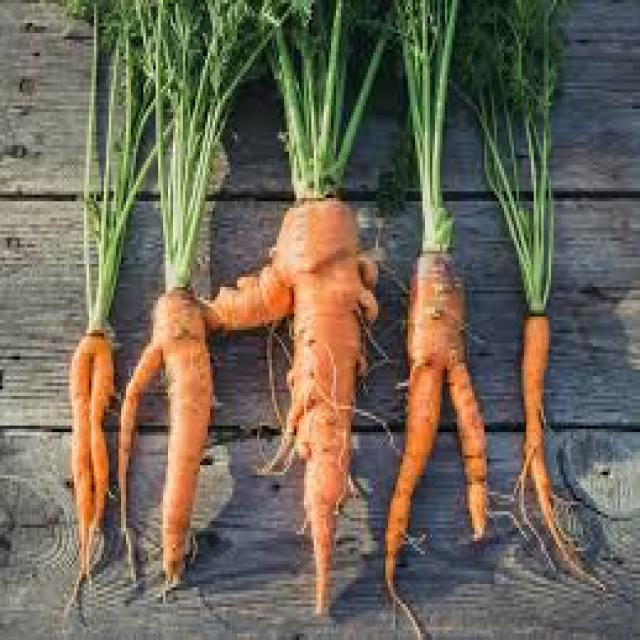Wet: (43, 0, 640, 637), (395, 0, 598, 607), (249, 1, 386, 610)
